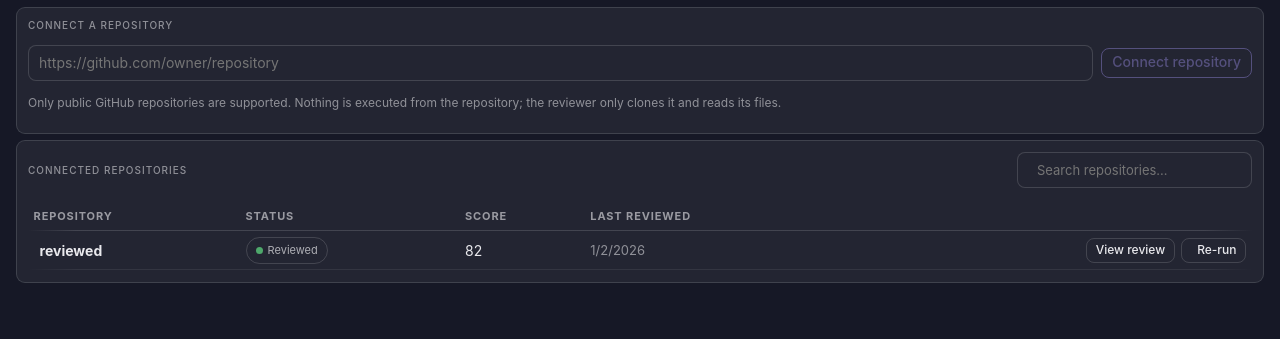
Test: RepositoriesScreen › connects a repository and immediately queues its first review
Expected: the text "reviewed" is shown, [40,240,102,261]
Type "https://github.com/octo/new" into the field named "Public GitHub repository URL" at (561, 63), box [28,45,1093,81]
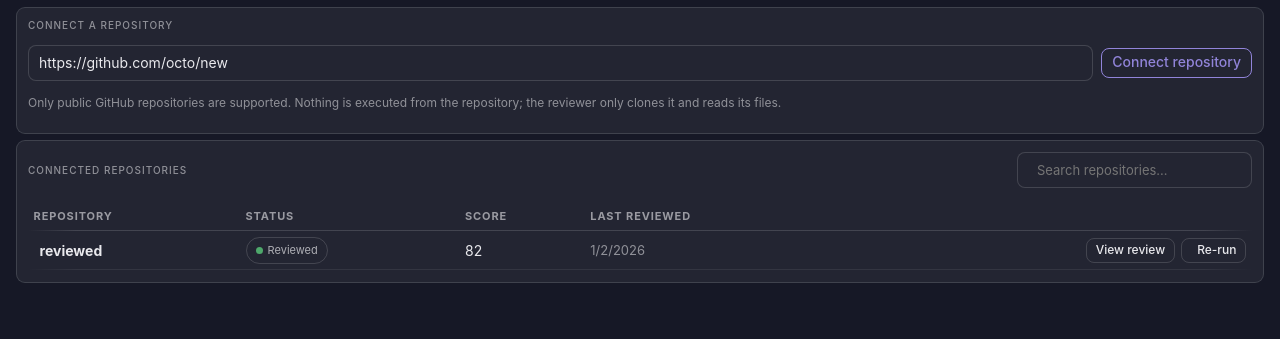
Click the button "Connect repository" at (1177, 63), box [1101,48,1252,78]
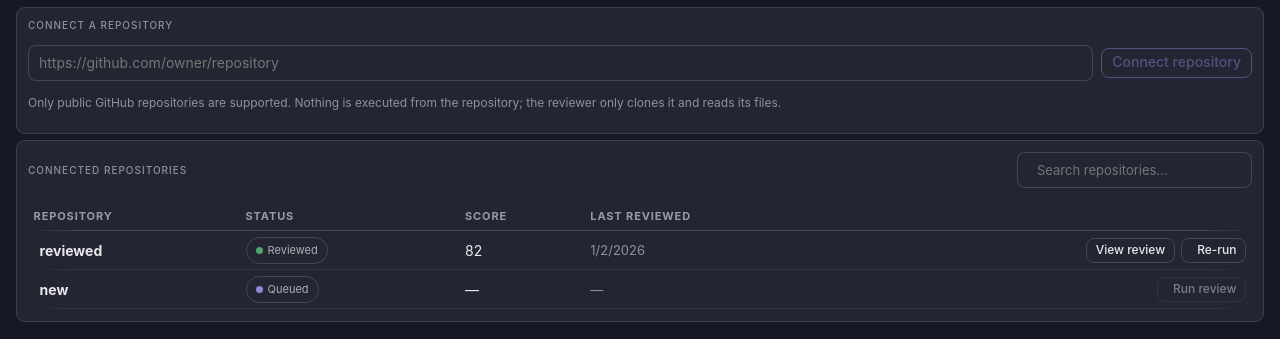
Expected: the text "new" is shown, [40,279,68,300]
Expected: the text "Queued" is shown, [246,276,319,303]
